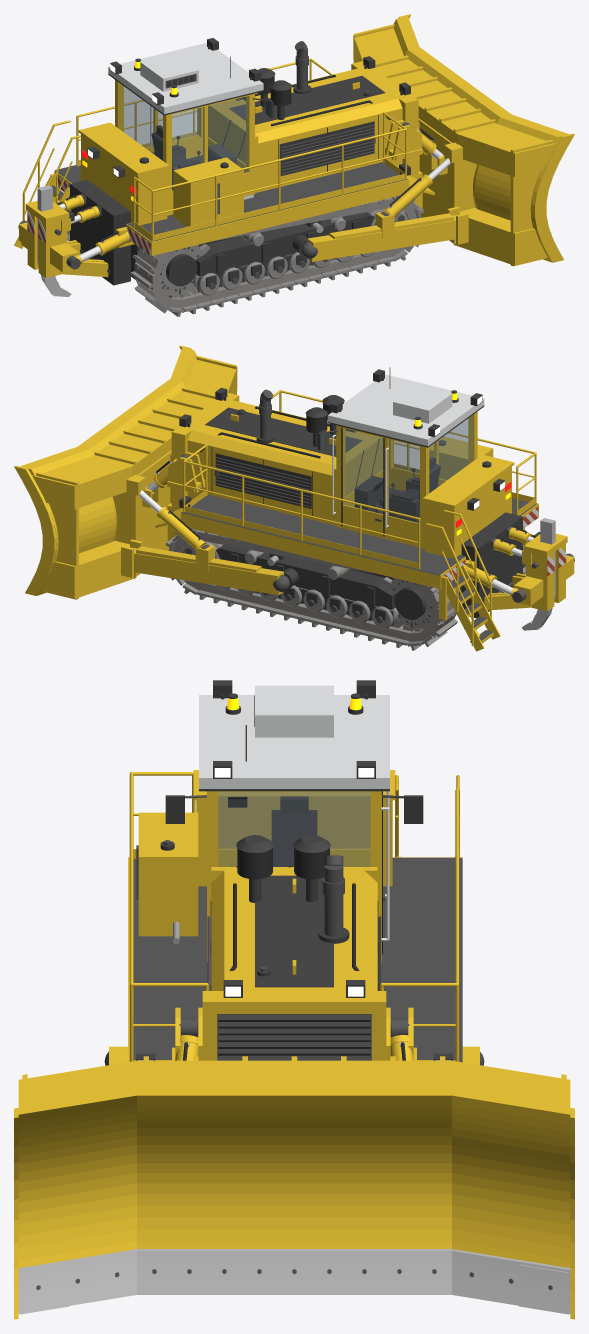
The model's file is large_mining_dozer.glb.
The picture shows the model from 3 angles, top to bottom: view 1: azimuth 30°, elevation 25°; view 2: azimuth 150°, elevation 25°; view 3: azimuth 270°, elevation 25°; orthographic projection. The views are drawn at different scales.
Visible parts, largest first — view 1: body, blade_tilt, cab, track_right, undercarriage_right, ripper_tilt, push_frame_tilt, sprocket_right_spin, blade_tilt_cylinder_right_rotate, ripper_lift_cylinder_right_rotate; view 2: body, blade_tilt, cab, track_left, undercarriage_left, ripper_tilt, push_frame_tilt, sprocket_left_spin, blade_tilt_cylinder_left_rotate; view 3: blade_tilt, body, cab, blade_lift_cylinder_right_rotate, blade_lift_cylinder_left_rotate.
Part boxes in pixels (bbox=[...]): body: bbox=[14, 41, 435, 285]; blade_tilt: bbox=[353, 14, 574, 266]; cab: bbox=[108, 38, 273, 215]; track_right: bbox=[130, 195, 424, 316]; undercarriage_right: bbox=[195, 212, 395, 291]; ripper_tilt: bbox=[19, 185, 109, 296]; push_frame_tilt: bbox=[301, 211, 456, 261]; sprocket_right_spin: bbox=[160, 244, 209, 297]; blade_tilt_cylinder_right_rotate: bbox=[380, 174, 433, 217]; ripper_lift_cylinder_right_rotate: bbox=[95, 232, 130, 255]; body: bbox=[155, 387, 538, 651]; blade_tilt: bbox=[14, 345, 237, 599]; cab: bbox=[317, 367, 484, 548]; track_left: bbox=[166, 528, 458, 650]; undercarriage_left: bbox=[194, 545, 396, 625]; ripper_tilt: bbox=[484, 518, 574, 630]; push_frame_tilt: bbox=[132, 544, 289, 594]; sprocket_left_spin: bbox=[382, 577, 432, 631]; blade_tilt_cylinder_left_rotate: bbox=[156, 506, 209, 549]; blade_tilt: bbox=[14, 1056, 574, 1319]; body: bbox=[128, 770, 462, 1062]; cab: bbox=[165, 680, 423, 962]; blade_lift_cylinder_right_rotate: bbox=[175, 1018, 198, 1060]; blade_lift_cylinder_left_rotate: bbox=[390, 1018, 413, 1060].
Bounding box in the file's own units: 10.29 × 4.7 × 6.41.
18 materials, 18 textured.
